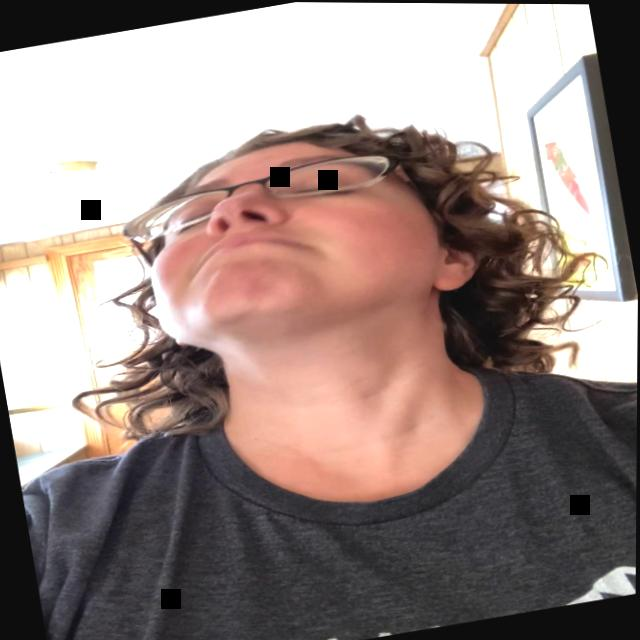NO-Mask: (126, 109, 467, 374)
